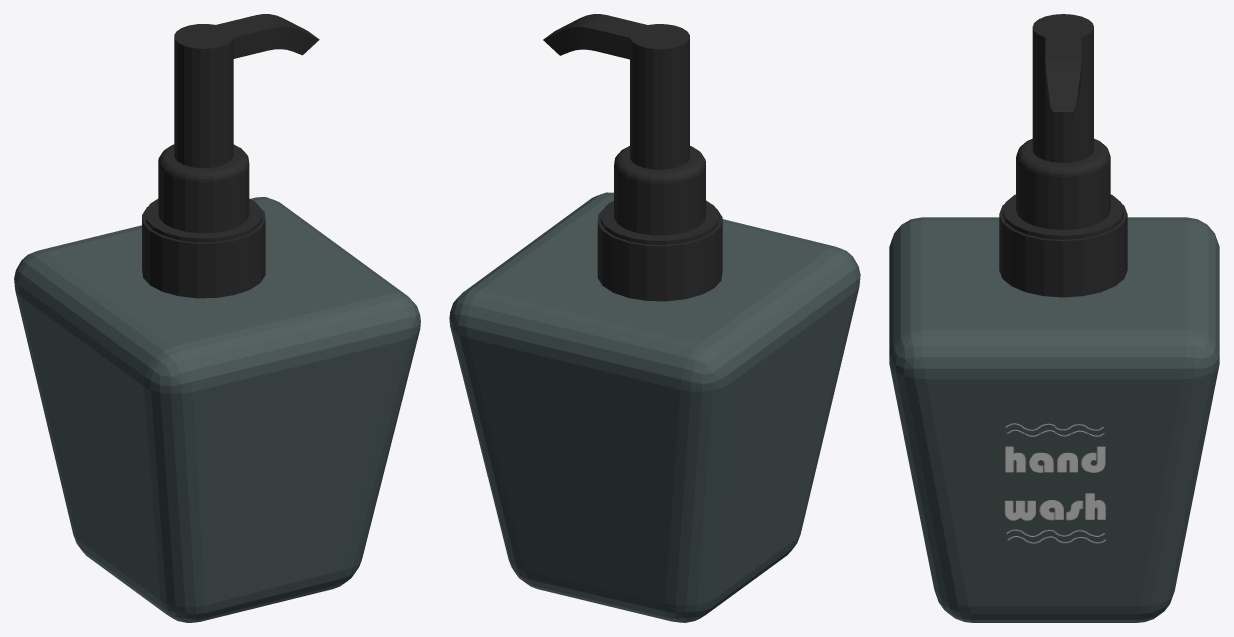
File: handwash.fbx
3 renders of one model, left to right at view 1: azimuth 30°, elevation 25°; view 2: azimuth 150°, elevation 25°; view 3: azimuth 270°, elevation 25°, orthographic. The views are drawn at different scales.
Parts seen in each view (by area): view 1: Handwash; view 2: Handwash; view 3: Handwash.
Boxes of the visible parts, x1,y1,x2,y2 form: Handwash: (14, 14, 420, 622); Handwash: (449, 14, 860, 622); Handwash: (889, 14, 1219, 622).
Bounding box in the file's own units: 0.00317 × 0.00599 × 0.00324.
2 materials, 1 textured.
